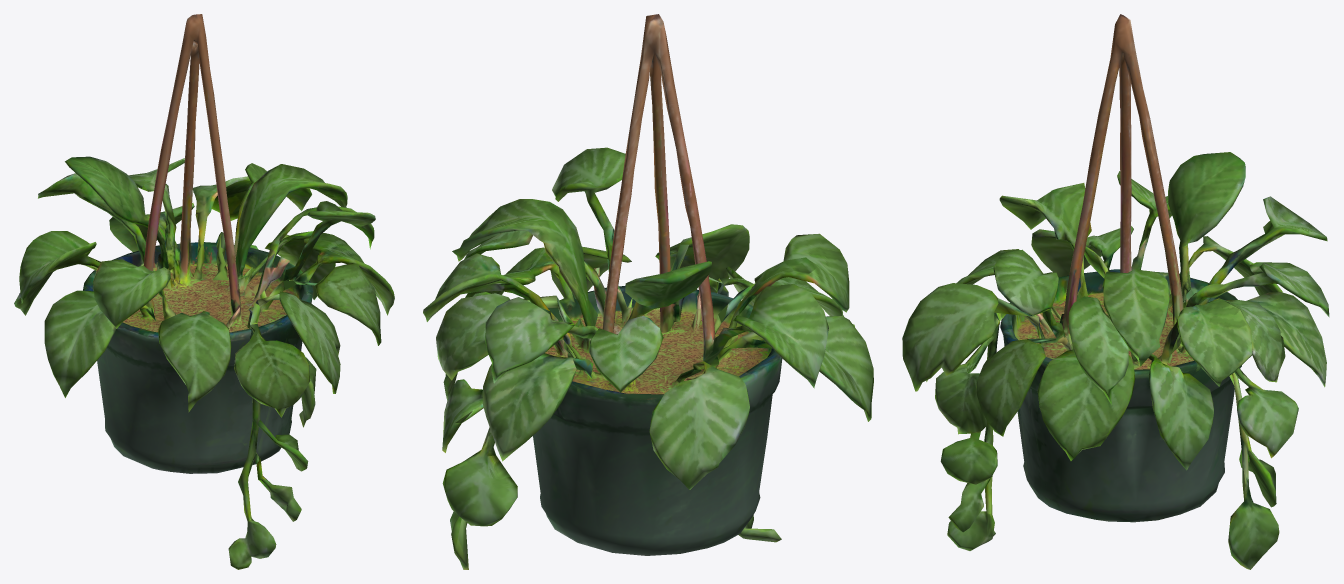
File: hangingPlantPothos.fbx
3 views of the same model, side by side, from view 1: azimuth 30°, elevation 25°; view 2: azimuth 150°, elevation 25°; view 3: azimuth 270°, elevation 25° (orthographic). The views are drawn at different scales.
Visible parts, largest first — view 1: hangingPantPothos; view 2: hangingPantPothos; view 3: hangingPantPothos.
Part boxes in pixels (x1,y1,x2,y2): hangingPantPothos: (14, 14, 394, 569); hangingPantPothos: (423, 14, 873, 569); hangingPantPothos: (902, 14, 1329, 569).
Size of the model in its own units: 57.17 by 81.73 by 58.35.
